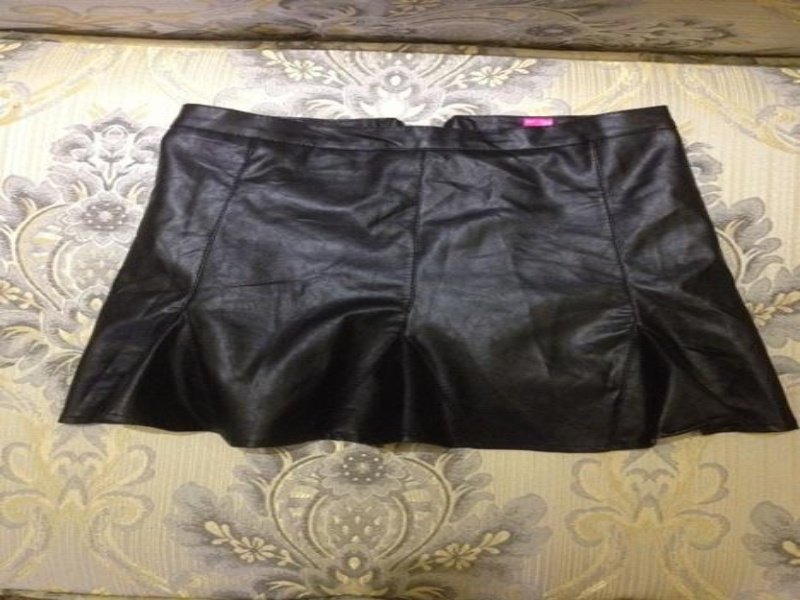skirt: (46, 101, 798, 458)
